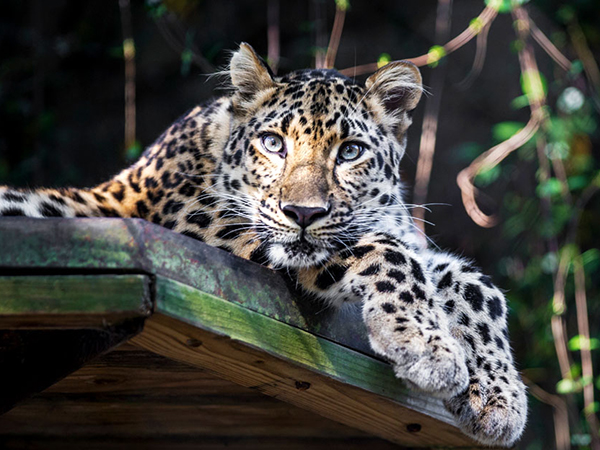amur_leopard: (188, 43, 437, 283)
